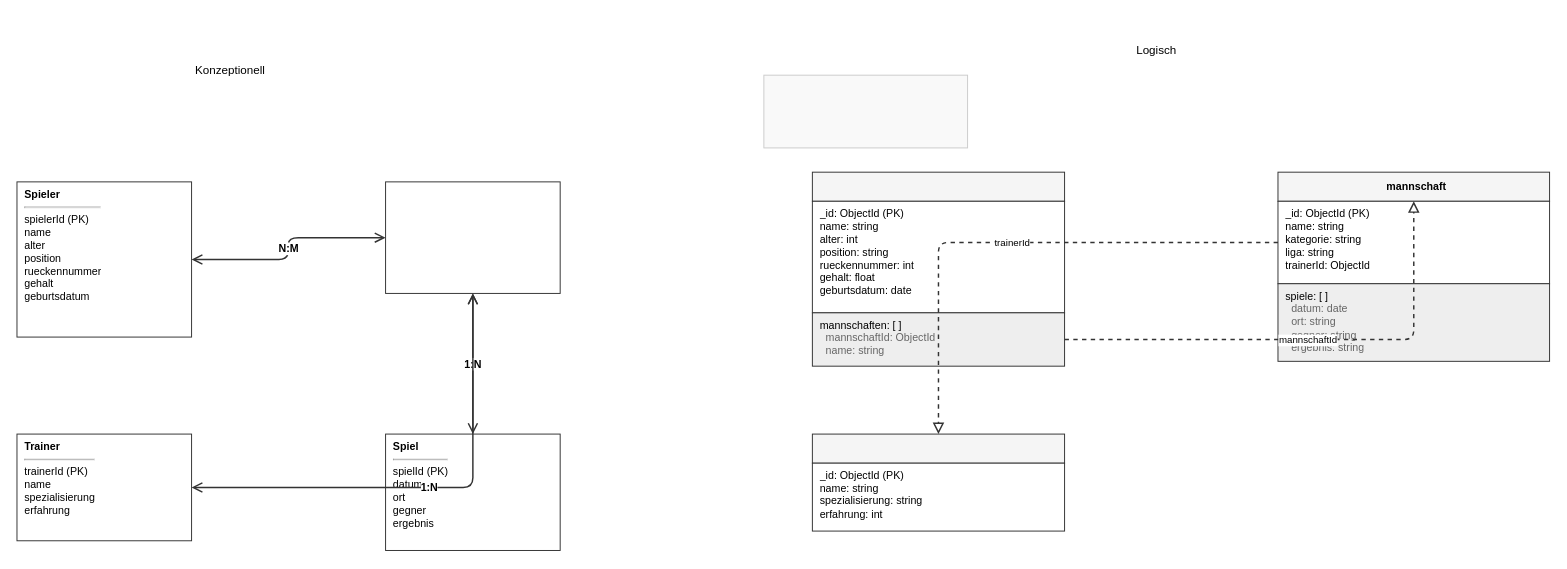
Image size: 1567x569. Some labels were removed from this diagram. The box of each missing label's shape, as (x1, y1, x2, y2) in pixels:
Legende ■ Collection ■ Embedded Document (grau) - - -> Referenz (ObjectId): (763, 74, 968, 148)
Mannschaft mannschaftId (PK) name kategorie liga: (385, 181, 560, 293)
spieler: (811, 171, 1065, 201)
trainer: (811, 433, 1065, 463)
